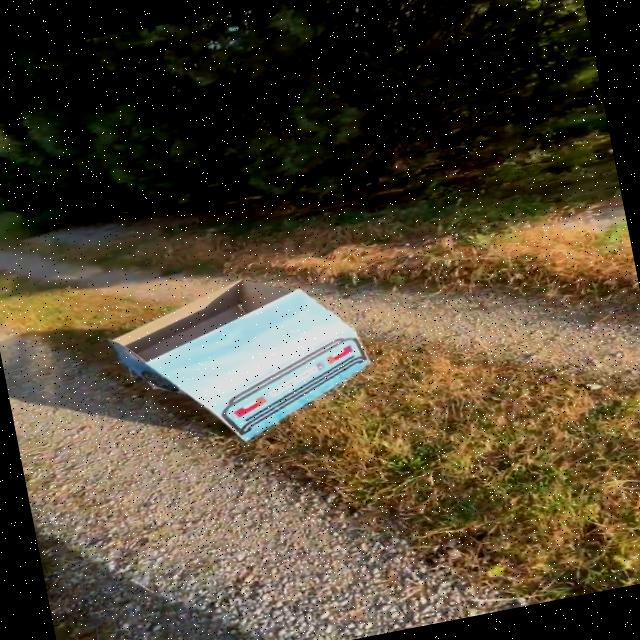blue_car: (74, 240, 426, 467)
